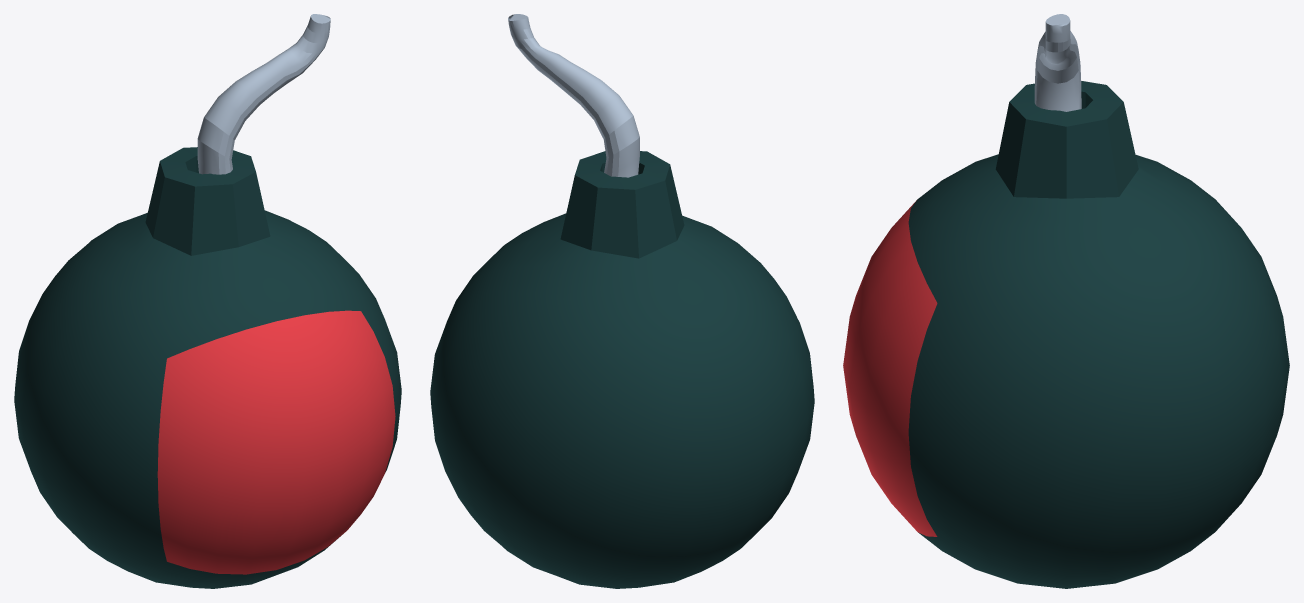
The model's file is Bomb.fbx.
3 views of the same model, side by side, from view 1: azimuth 30°, elevation 25°; view 2: azimuth 150°, elevation 25°; view 3: azimuth 270°, elevation 25° (orthographic). The views are drawn at different scales.
Visible parts, largest first — view 1: Cube.017, Cylinder.008; view 2: Cube.017, Cylinder.008; view 3: Cube.017, Cylinder.008.
Boxes of the visible parts, <box> form: Cube.017: <box>14,147,401,588</box>; Cylinder.008: <box>197,14,330,174</box>; Cube.017: <box>430,151,814,588</box>; Cylinder.008: <box>508,14,639,177</box>; Cube.017: <box>843,81,1289,588</box>; Cylinder.008: <box>1034,14,1081,111</box>.
Size of the model in its own units: 379 by 572 by 379.
